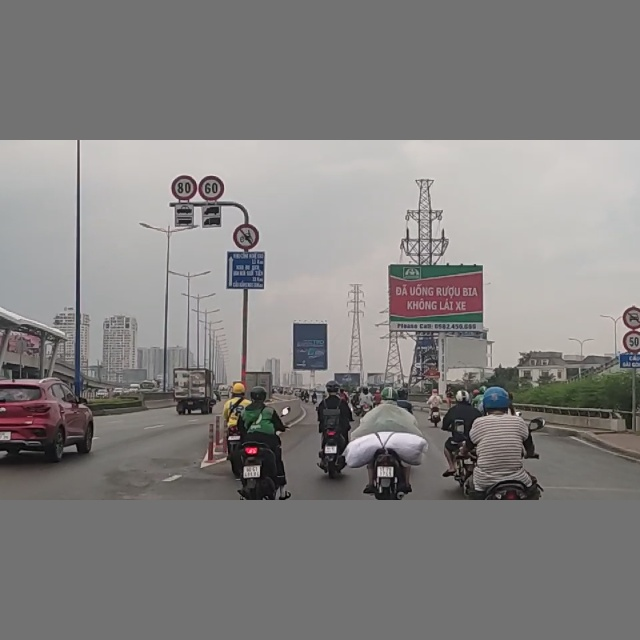P.103a: (621, 306, 640, 329)
P.104: (233, 219, 261, 251)
P.127*50: (623, 332, 640, 355)
P.127*60: (199, 175, 225, 201)
P.127*80: (173, 176, 199, 204)
